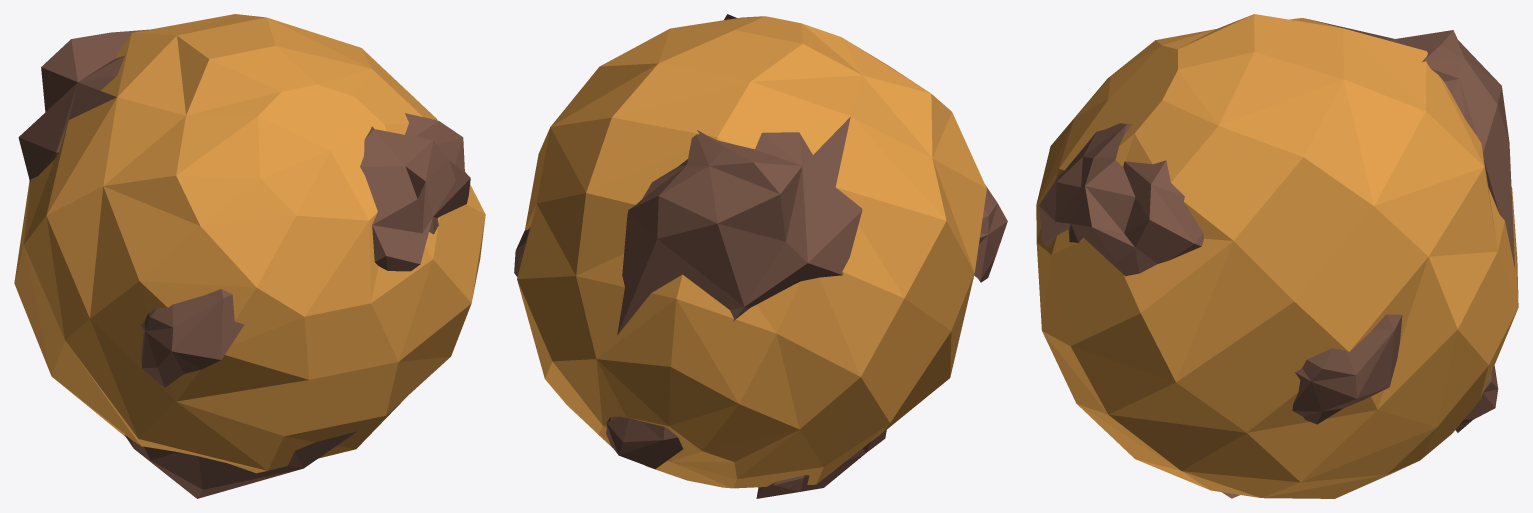
File: mercury.glb
The picture shows the model from 3 angles, left to right: view 1: azimuth 30°, elevation 25°; view 2: azimuth 150°, elevation 25°; view 3: azimuth 270°, elevation 25°; orthographic projection. The views are drawn at different scales.
Visible parts, largest first — view 1: Node; view 2: Node; view 3: Node.
Part boxes in pixels (bbox=[...]): Node: bbox=[14, 14, 485, 498]; Node: bbox=[514, 14, 1007, 498]; Node: bbox=[1036, 14, 1518, 498].
Size of the model in its own units: 0.1634 by 0.1729 by 0.1632.
